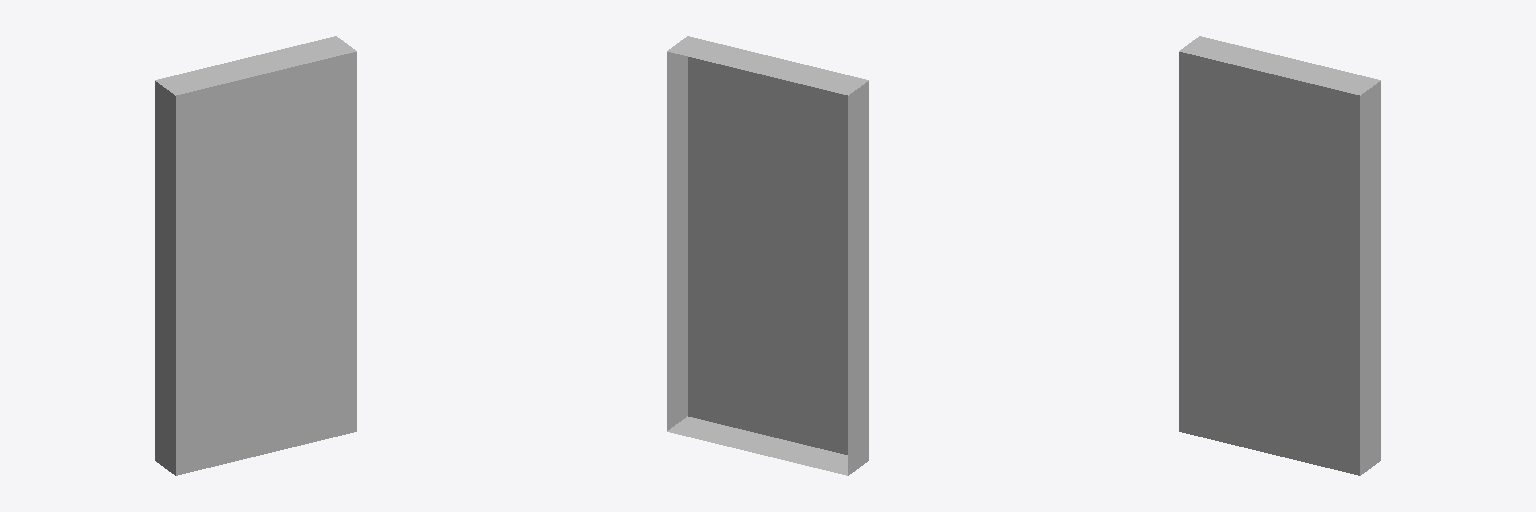
Rendered from original-39.obj.
3 views of the same model, side by side, from view 1: azimuth 30°, elevation 25°; view 2: azimuth 150°, elevation 25°; view 3: azimuth 330°, elevation 25° (orthographic).
Visible parts, largest first — view 1: #ID1364; view 2: #ID1364; view 3: #ID1364.
Part boxes in pixels (x1,y1,x2,y2): #ID1364: (155,36,356,475); #ID1364: (667,36,868,475); #ID1364: (1179,36,1380,475).
Bounding box in the file's own units: 0.2835 × 0.567 × 0.0567.